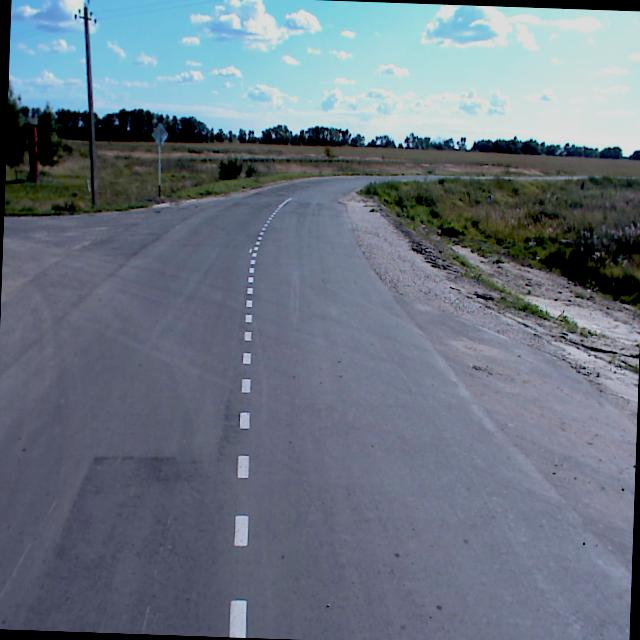road: (0, 175, 636, 640)
